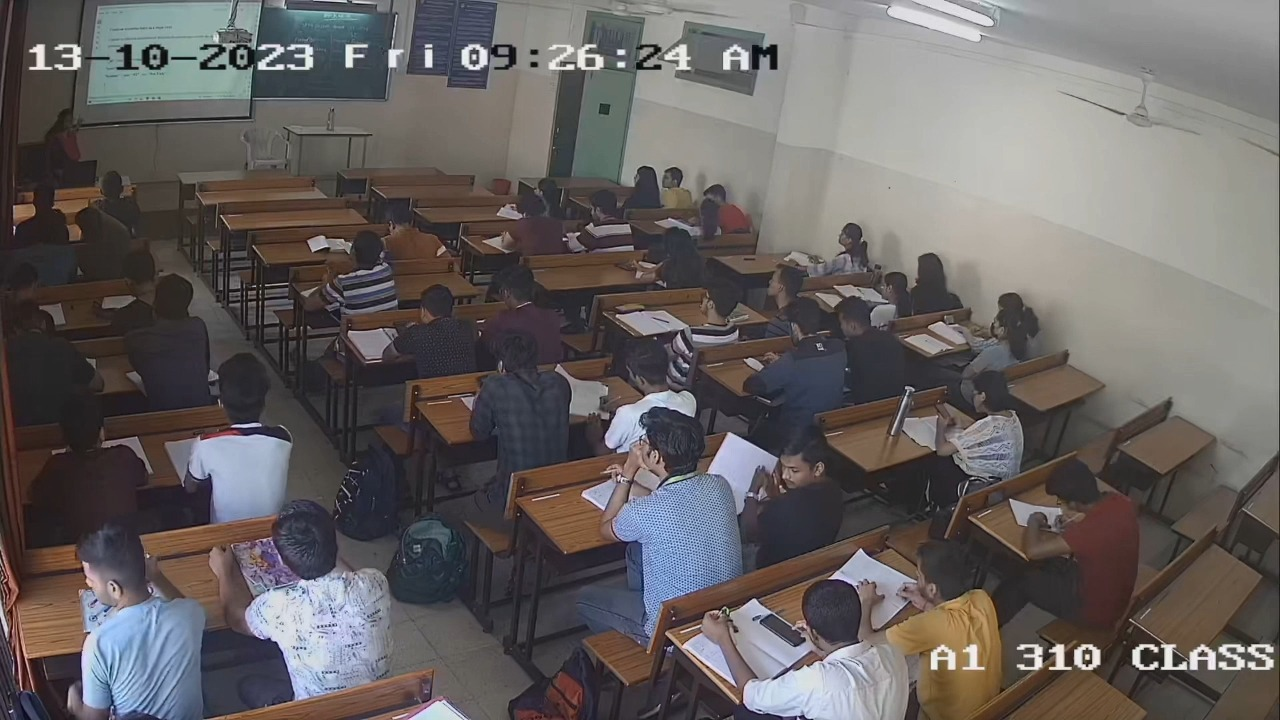cell-phones: (756, 613, 806, 647), (932, 399, 957, 431), (388, 320, 411, 338), (942, 308, 959, 332), (612, 259, 637, 274)
person: (701, 573, 908, 720), (377, 284, 479, 384), (930, 371, 1024, 479), (637, 223, 704, 289), (963, 305, 1026, 371)
